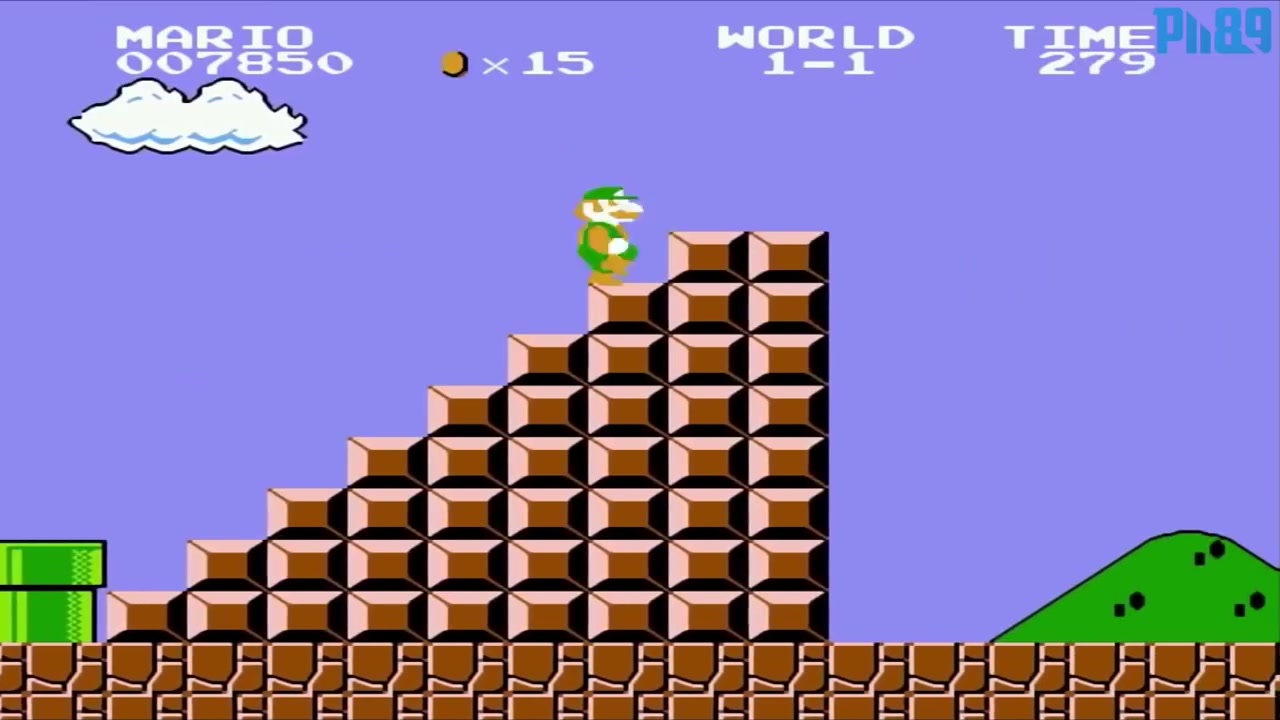mario: (566, 162, 647, 284)
